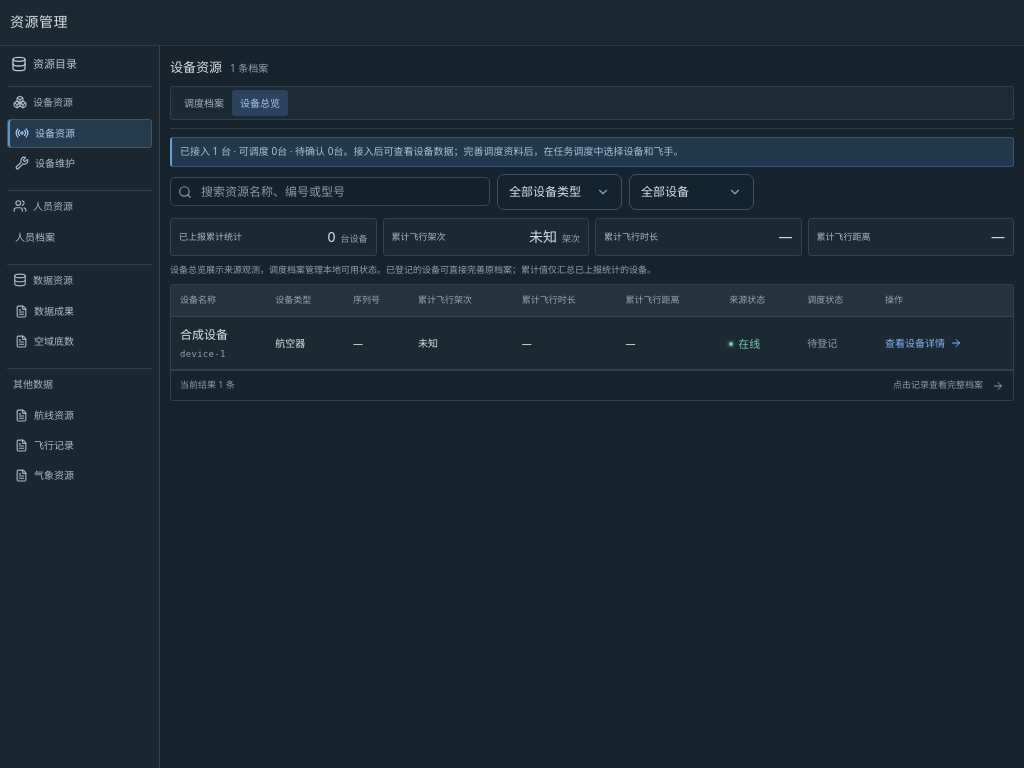
Scenario: 资源目录按需请求 › 浏览人员和航线来源时不读取组织，也不继续设备轮询
The image size is (1024, 768).
Click the button "人员档案": coordinates (80, 237) x1=7 y1=223 x2=152 y2=252
Wait 15020 ms
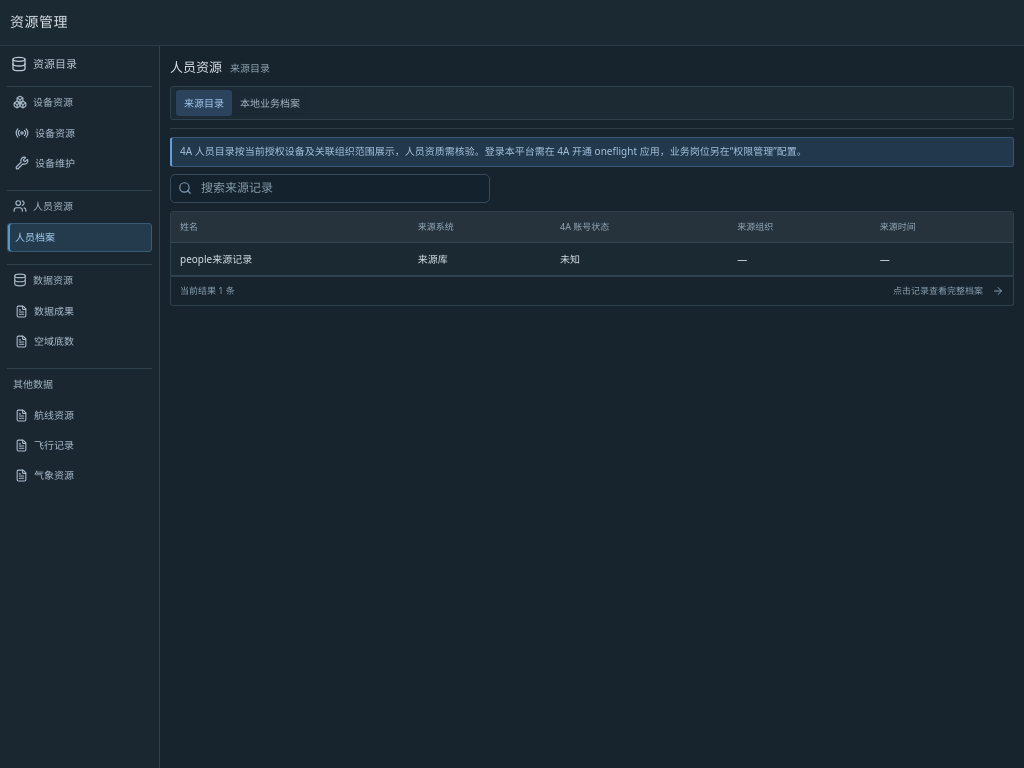
Result: the text "people来源记录" is shown at x1=171 y1=242 x2=409 y2=275
Click the button "航线资源": coordinates (80, 415) x1=7 y1=401 x2=152 y2=430
Wait 15020 ms
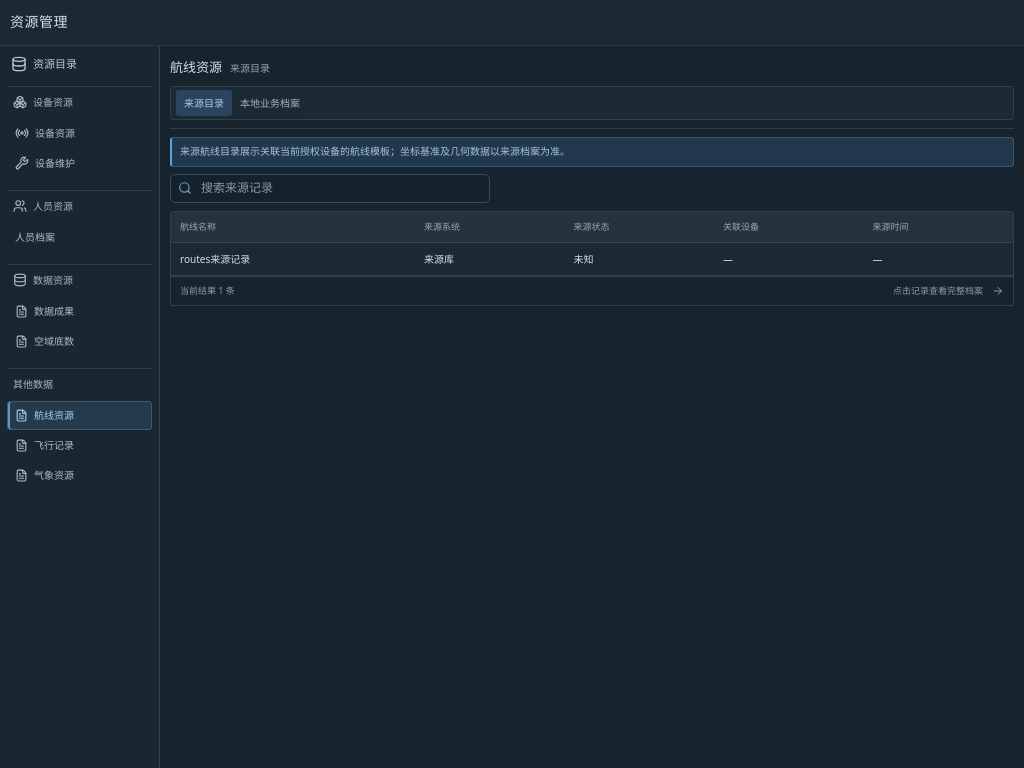
Result: the text "routes来源记录" is shown at x1=171 y1=242 x2=415 y2=275
